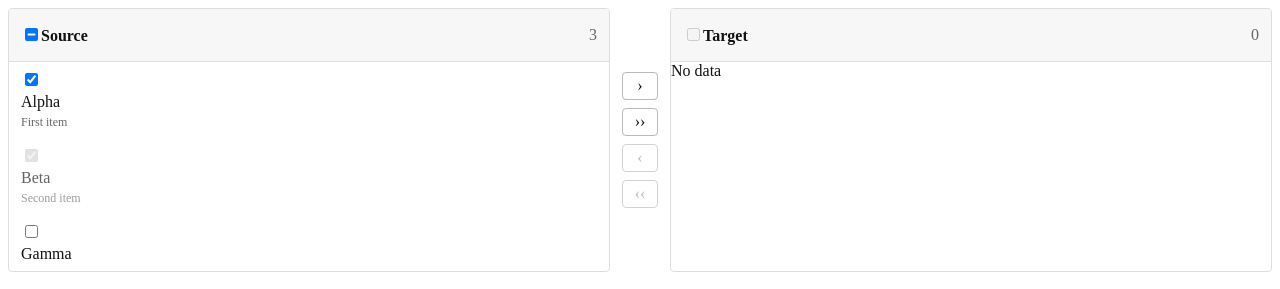
Test case: CTransfer › skips disabled items when moving selected keys and marks disabled items
Click the button named "Move selected to target".
click(640, 86)  # box [622, 72, 658, 100]
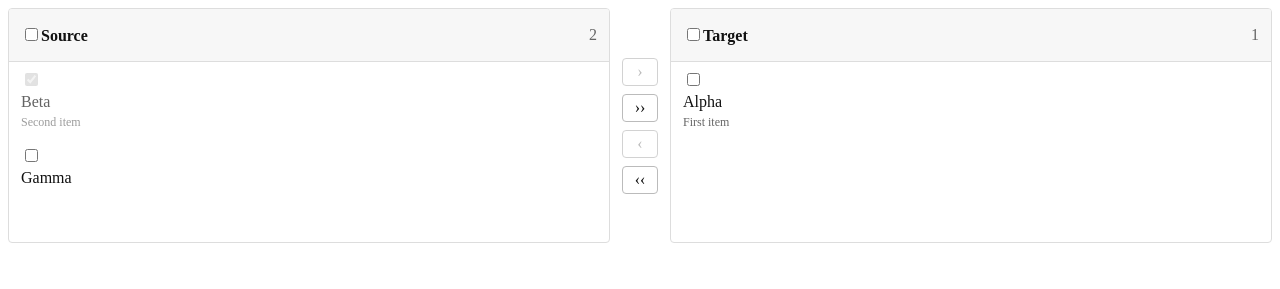
Check: the list "Beta Second item Gamma" is shown, box [21, 73, 81, 186]
Check: the list "Alpha First item" is shown, box [683, 73, 729, 129]
